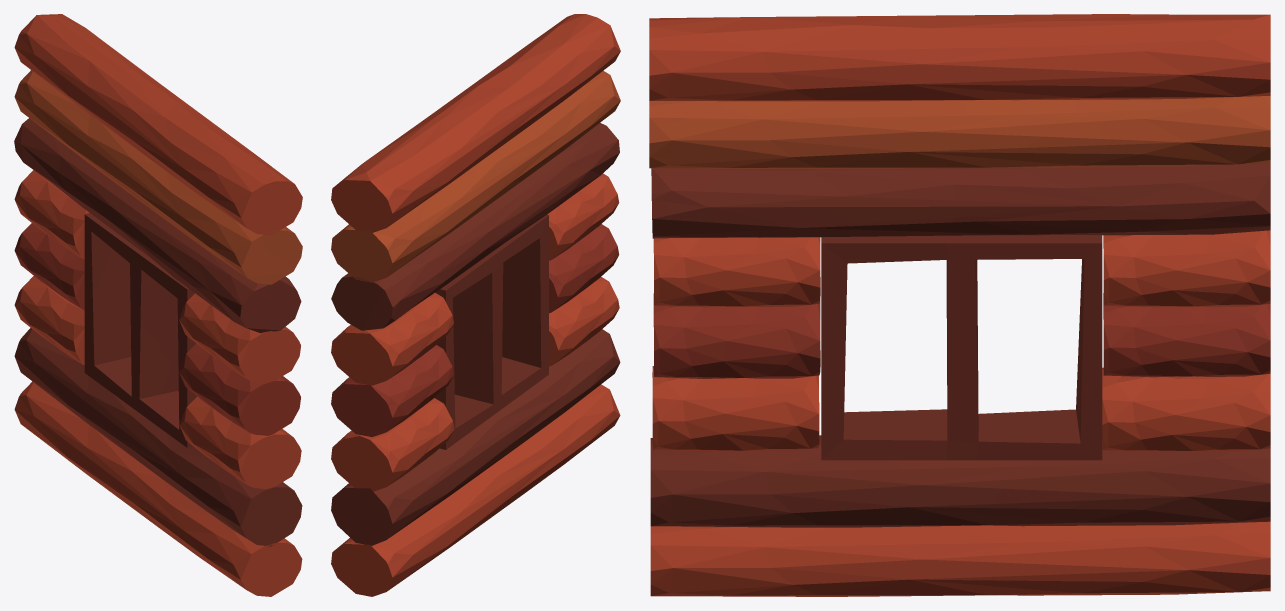
File: Wall wooden window.fbx
3 views of the same model, side by side, from view 1: azimuth 30°, elevation 25°; view 2: azimuth 150°, elevation 25°; view 3: azimuth 270°, elevation 25° (orthographic). The views are drawn at different scales.
Visible parts, largest first — view 1: Wall wooden window; view 2: Wall wooden window; view 3: Wall wooden window.
Part boxes in pixels (x1=…): Wall wooden window: x1=14, y1=14, x2=302, y2=596; Wall wooden window: x1=331, y1=14, x2=620, y2=596; Wall wooden window: x1=649, y1=14, x2=1270, y2=596.
Bounding box in the file's own units: 0.48 × 3.03 × 2.98.
